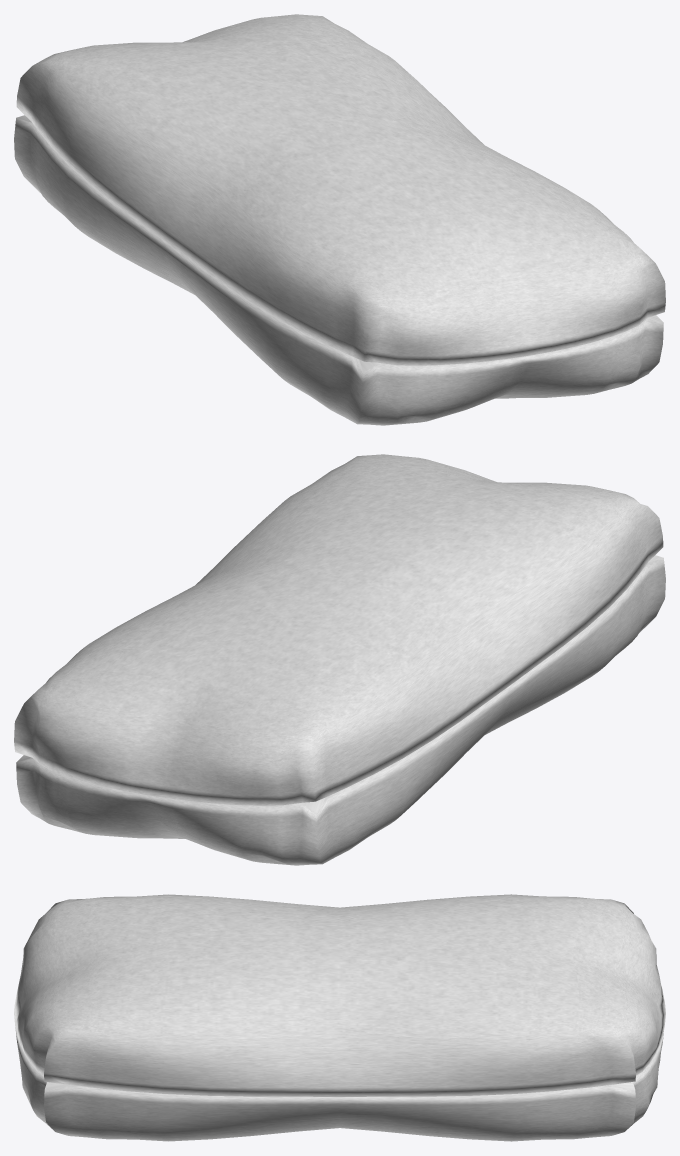
Rendered from pillow.fbx.
The picture shows the model from 3 angles, top to bottom: view 1: azimuth 30°, elevation 25°; view 2: azimuth 150°, elevation 25°; view 3: azimuth 270°, elevation 25°; orthographic projection. The views are drawn at different scales.
Parts seen in each view (by area): view 1: bed.001; view 2: bed.001; view 3: bed.001.
Boxes of the visible parts, box(x1,y1,x2,y2) form: bed.001: box(14, 14, 665, 425); bed.001: box(14, 454, 665, 865); bed.001: box(14, 894, 665, 1141).
Bounding box in the file's own units: 29.54 × 15.4 × 56.75.
1 material, 1 textured.
